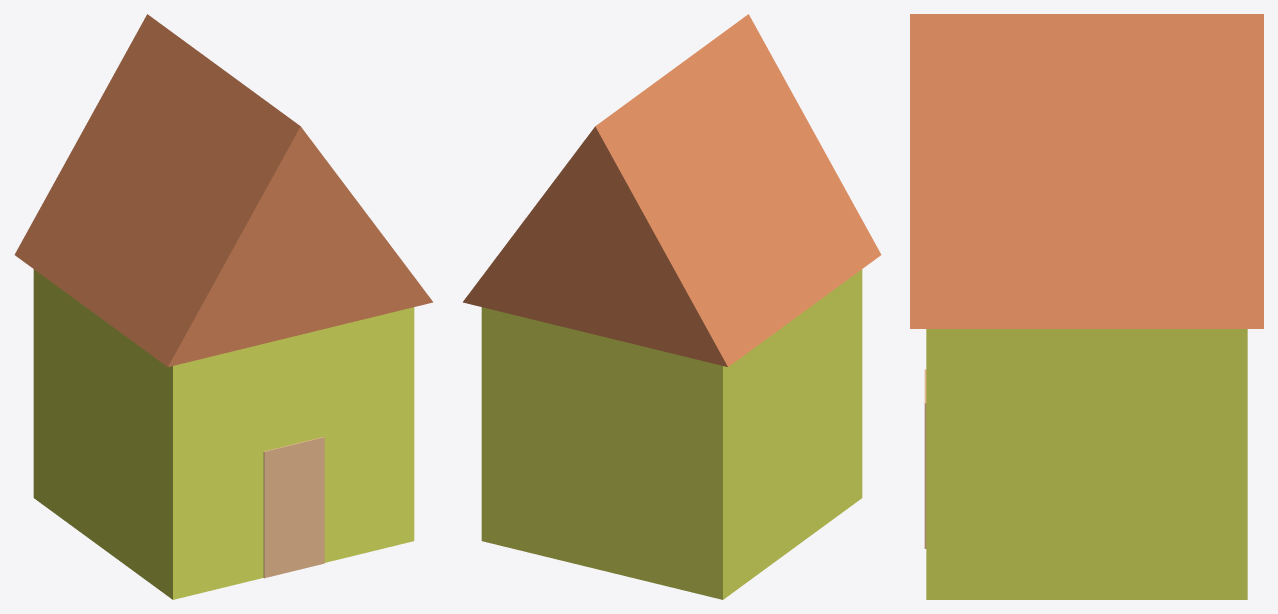
Rendered from 3d_house.glb.
3 views of the same model, side by side, from view 1: azimuth 30°, elevation 25°; view 2: azimuth 150°, elevation 25°; view 3: azimuth 270°, elevation 25° (orthographic). The views are drawn at different scales.
Visible parts, largest first — view 1: Cube, Cube.001, Cube.002; view 2: Cube, Cube.001; view 3: Cube.001, Cube, Cube.002.
Part boxes in pixels (box(x1,y1,x2,y2)): Cube: box(33, 269, 414, 599); Cube.001: box(14, 14, 432, 366); Cube.002: box(263, 437, 324, 578); Cube: box(481, 269, 862, 599); Cube.001: box(463, 14, 881, 366); Cube.001: box(910, 14, 1263, 328); Cube: box(926, 329, 1247, 599); Cube.002: box(924, 369, 926, 548).
Bounding box in the file's own units: 2.2 × 3.56 × 2.2.
